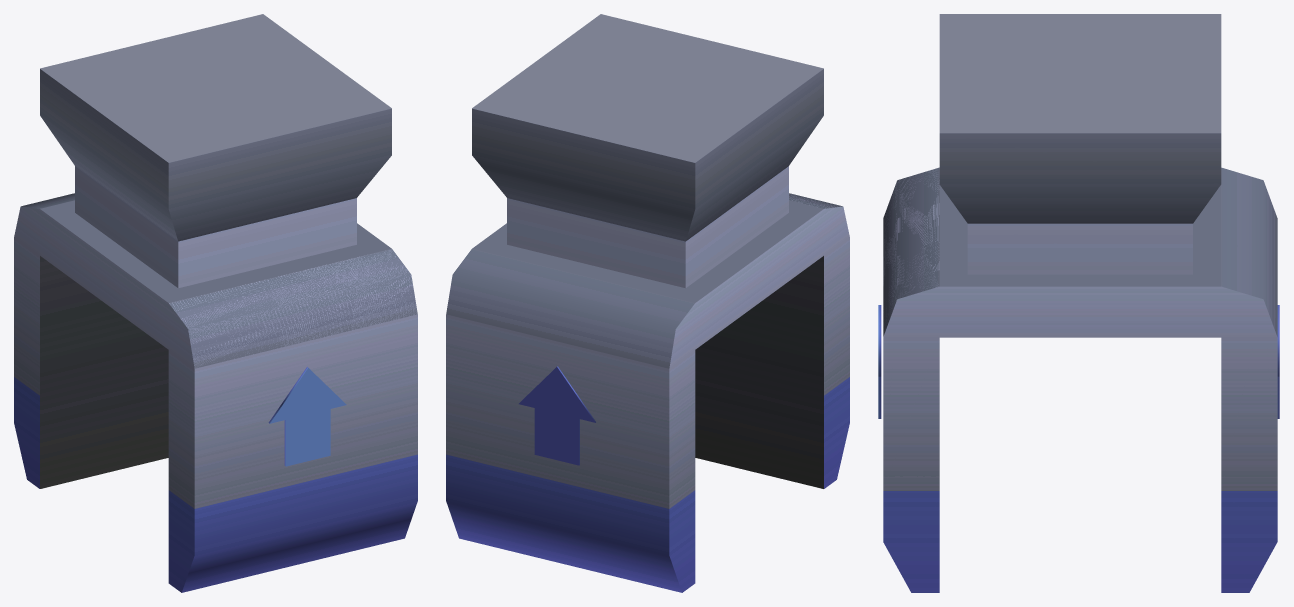
3 renders of one model, left to right at view 1: azimuth 30°, elevation 25°; view 2: azimuth 150°, elevation 25°; view 3: azimuth 270°, elevation 25°, orthographic. The views are drawn at different scales.
Visible parts, largest first — view 1: cover-stripe-hopper, top, arrow; view 2: cover-stripe-hopper, top, arrow4; view 3: cover-stripe-hopper, top.
Boxes of the visible parts, x1,y1,x2,y2 form: cover-stripe-hopper: (14,69,417,592); top: (40,14,391,162); arrow: (268,367,346,466); cover-stripe-hopper: (446,69,849,592); top: (472,14,823,162); arrow4: (519,366,595,465); cover-stripe-hopper: (883,133,1277,592); top: (939,14,1221,132).
Bounding box in the file's own units: 1 × 1.8 × 1.42.
Materials: 3 (3 with a texture image).
